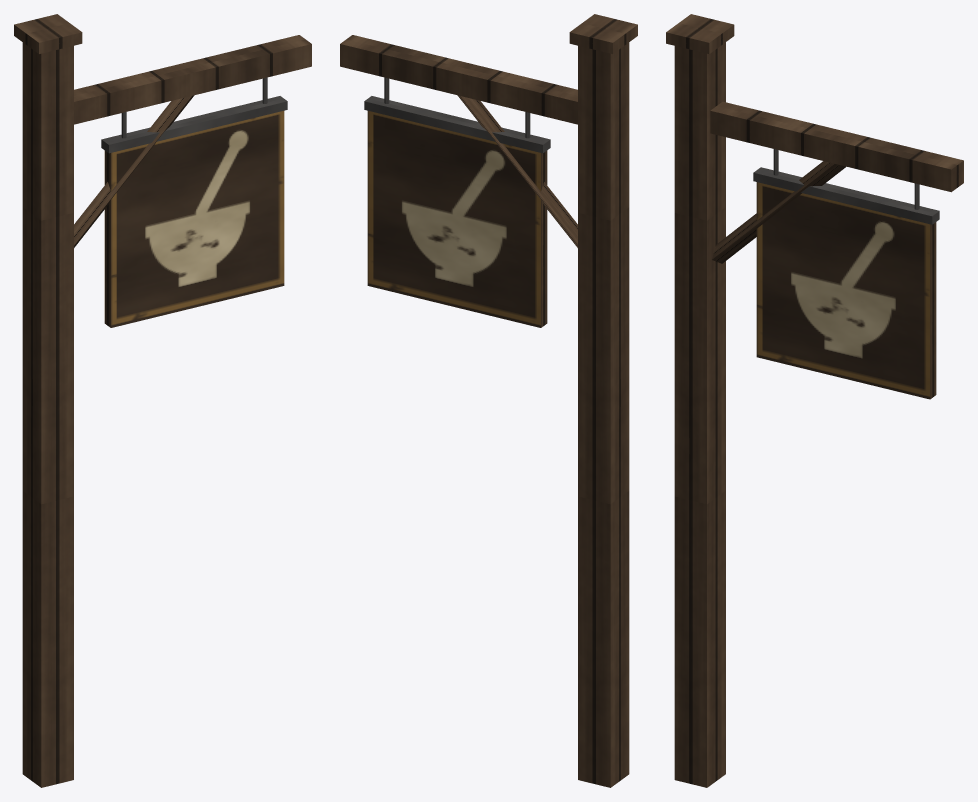
File: Sign_Service_infirmerie.gltf
3 views of the same model, side by side, from view 1: azimuth 30°, elevation 25°; view 2: azimuth 150°, elevation 25°; view 3: azimuth 330°, elevation 25° (orthographic).
Parts seen in each view (by area): view 1: Sign_Service_infirmerie; view 2: Sign_Service_infirmerie; view 3: Sign_Service_infirmerie.
Part boxes in pixels (left/top/right/bottom): Sign_Service_infirmerie: left=14, top=14, right=311, bottom=787; Sign_Service_infirmerie: left=340, top=14, right=637, bottom=787; Sign_Service_infirmerie: left=666, top=14, right=963, bottom=787.
Size of the model in its own units: 1.03 by 2.64 by 0.16.
3 materials, 3 textured.
